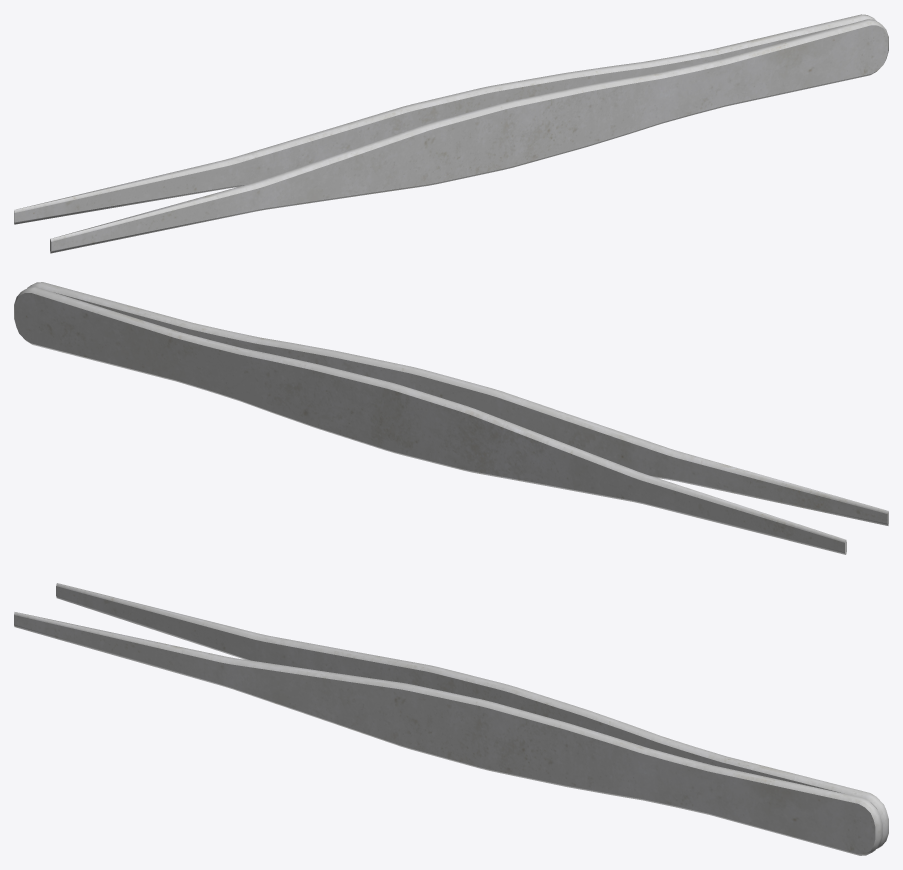
3 renders of one model, top to bottom at view 1: azimuth 30°, elevation 25°; view 2: azimuth 150°, elevation 25°; view 3: azimuth 330°, elevation 25°, orthographic. The views are drawn at different scales.
Parts seen in each view (by area): view 1: SM_镊子; view 2: SM_镊子; view 3: SM_镊子.
Boxes of the visible parts, x1,y1,x2,y2 form: SM_镊子: (14, 14, 888, 253); SM_镊子: (14, 282, 888, 554); SM_镊子: (14, 583, 888, 855).
Size of the model in its own units: 85.66 by 6.28 by 7.63.
